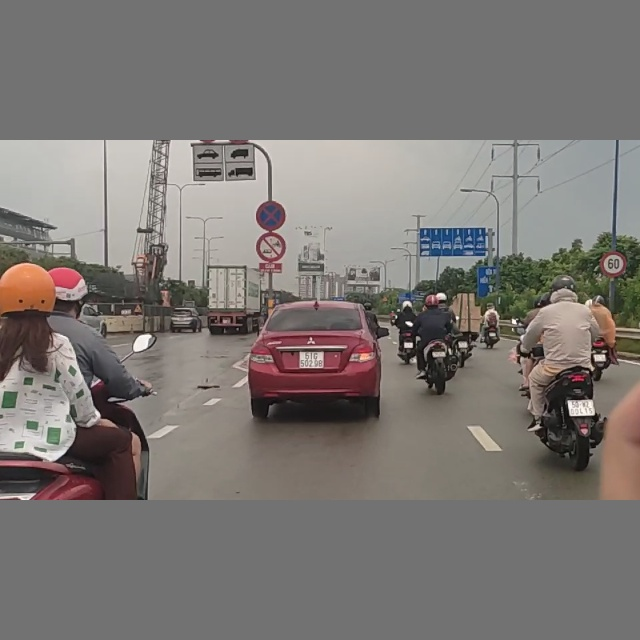P.111: (256, 232, 286, 261)
P.127*60: (601, 251, 627, 277)
P.130: (256, 201, 285, 230)
